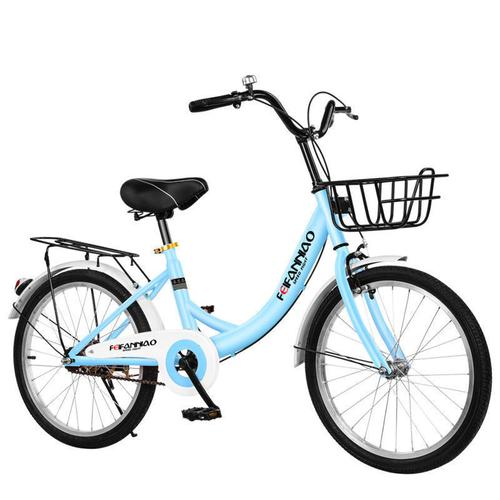单车: (5, 78, 500, 477)
